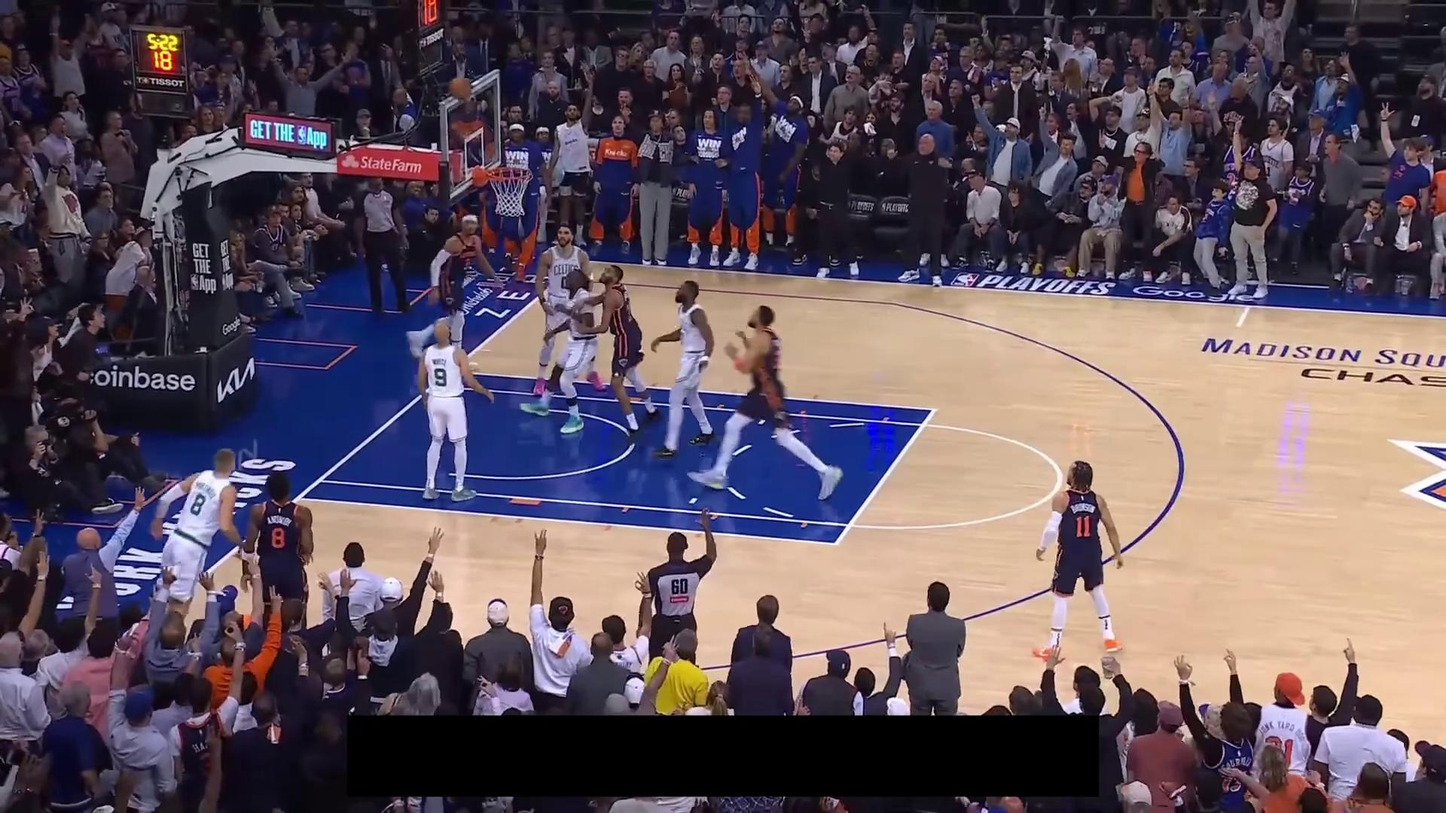ball: (447, 75, 471, 99)
number: (270, 523, 287, 551), (1073, 514, 1092, 539), (432, 367, 450, 389), (190, 491, 204, 516)
player: (687, 304, 844, 501), (1033, 458, 1127, 661), (149, 449, 251, 618), (403, 210, 508, 371), (572, 262, 661, 441), (417, 320, 497, 501), (238, 464, 320, 634), (532, 221, 608, 398), (518, 270, 598, 433), (648, 278, 716, 460)
referee: (631, 506, 720, 667), (351, 178, 418, 312)
rim: (487, 164, 533, 181)
